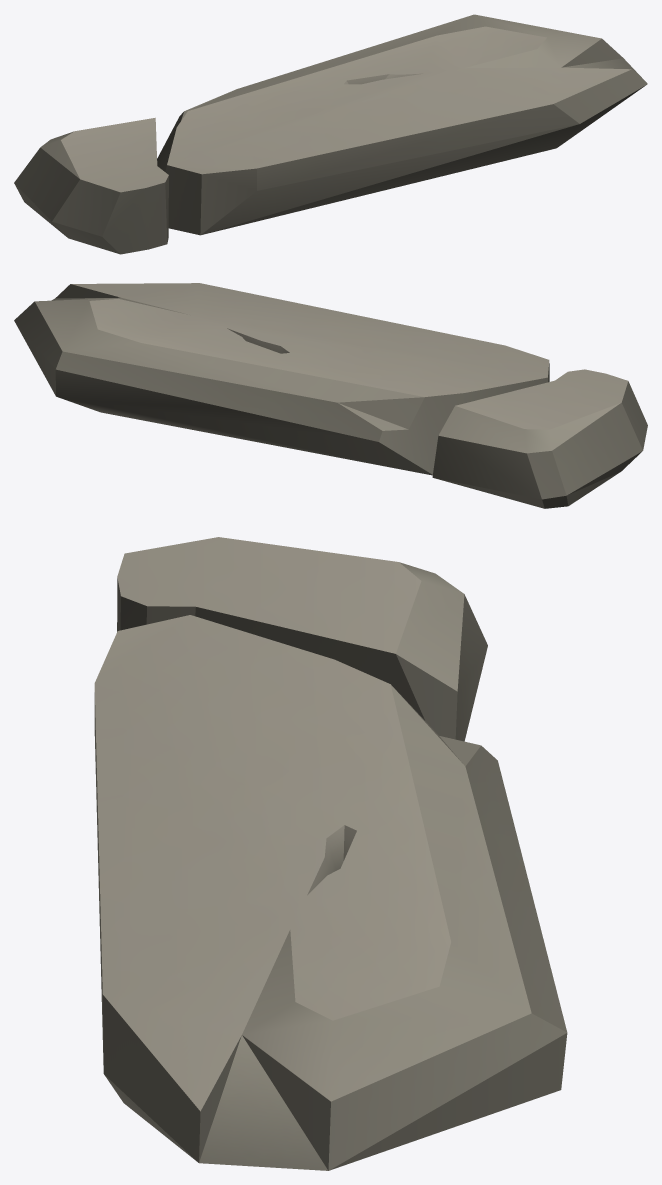
Rendered from Stone_Step_4A.fbx.
The picture shows the model from 3 angles, top to bottom: view 1: azimuth 30°, elevation 25°; view 2: azimuth 150°, elevation 25°; view 3: azimuth 270°, elevation 25°; orthographic projection. The views are drawn at different scales.
Visible parts, largest first — view 1: Stone_Step_4A; view 2: Stone_Step_4A; view 3: Stone_Step_4A.
Part boxes in pixels (bbox=[...]): Stone_Step_4A: bbox=[14, 14, 647, 254]; Stone_Step_4A: bbox=[14, 283, 647, 508]; Stone_Step_4A: bbox=[94, 537, 567, 1170].
Size of the model in its own units: 3.2 by 0.3189 by 1.1.
